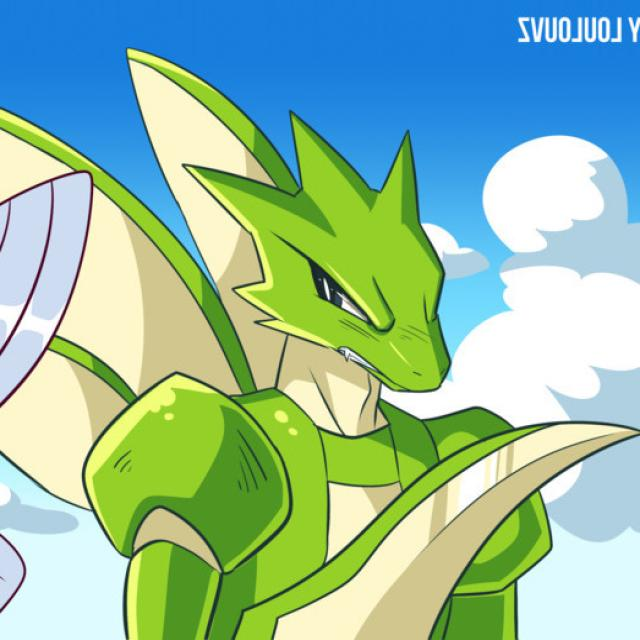Scyther: (116, 116, 545, 640)
